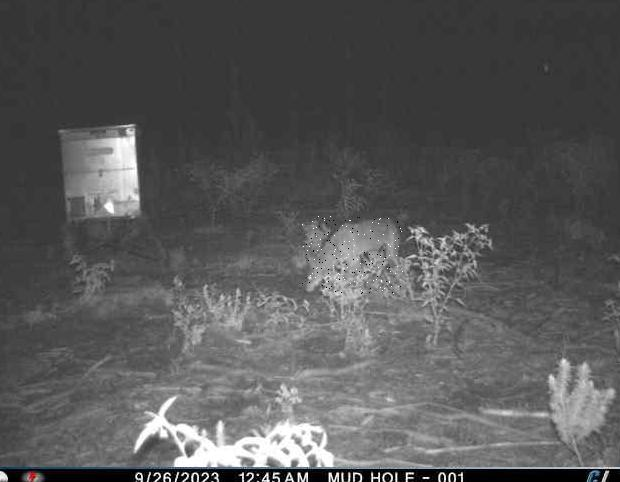Coyote: (303, 217, 404, 295)
